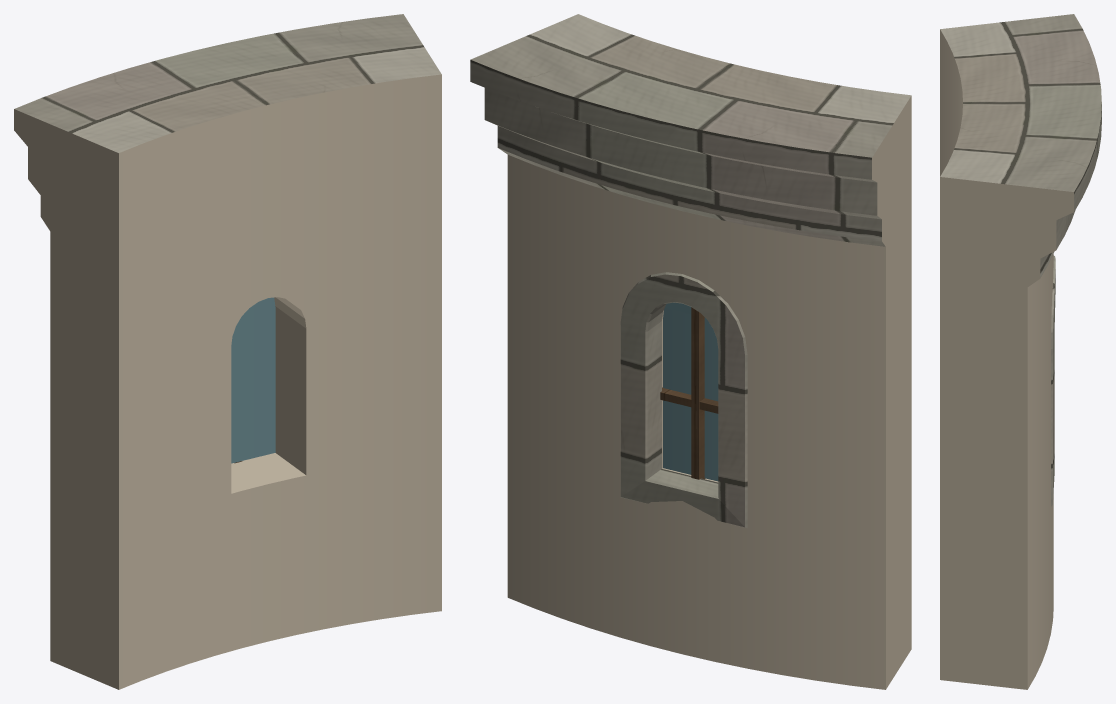
File: Furn_Tower3_R35_TopWindow.fbx
3 views of the same model, side by side, from view 1: azimuth 30°, elevation 25°; view 2: azimuth 150°, elevation 25°; view 3: azimuth 270°, elevation 25° (orthographic). The views are drawn at different scales.
Parts seen in each view (by area): view 1: Furn_Tower3_R35_TopWindow; view 2: Furn_Tower3_R35_TopWindow; view 3: Furn_Tower3_R35_TopWindow.
Boxes of the visible parts, left/top/right/bottom form: Furn_Tower3_R35_TopWindow: left=14, top=14, right=441, bottom=689; Furn_Tower3_R35_TopWindow: left=470, top=14, right=911, bottom=689; Furn_Tower3_R35_TopWindow: left=940, top=14, right=1101, bottom=689.
Size of the model in its own units: 2.28 by 3 by 0.8744.
